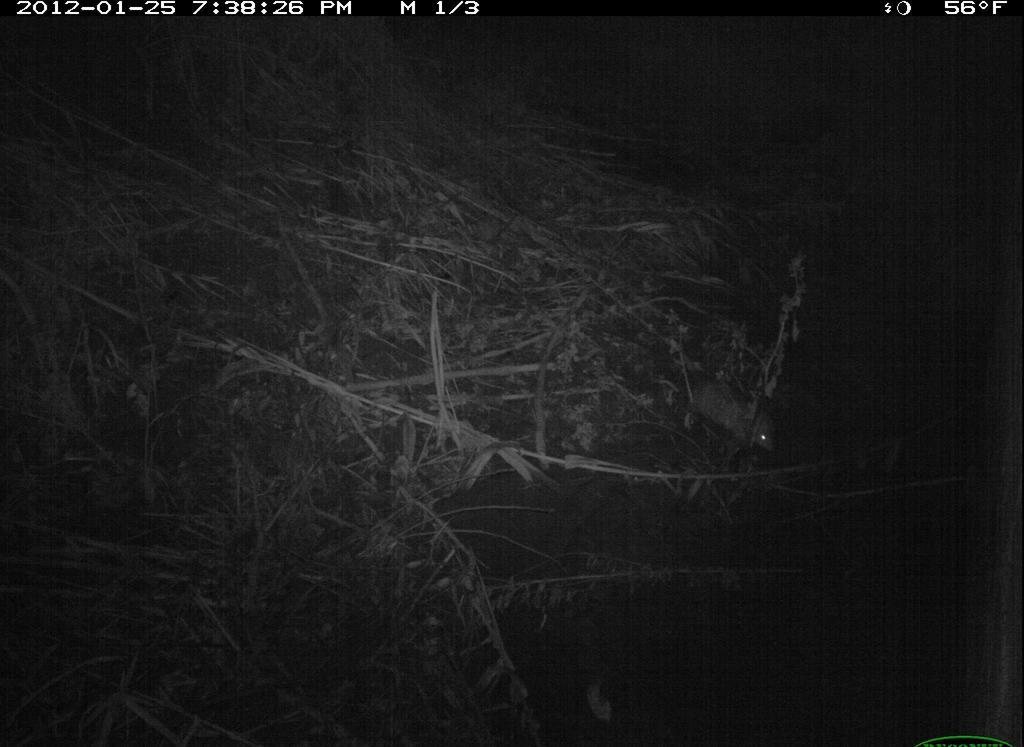opossum: (675, 373, 788, 461)
